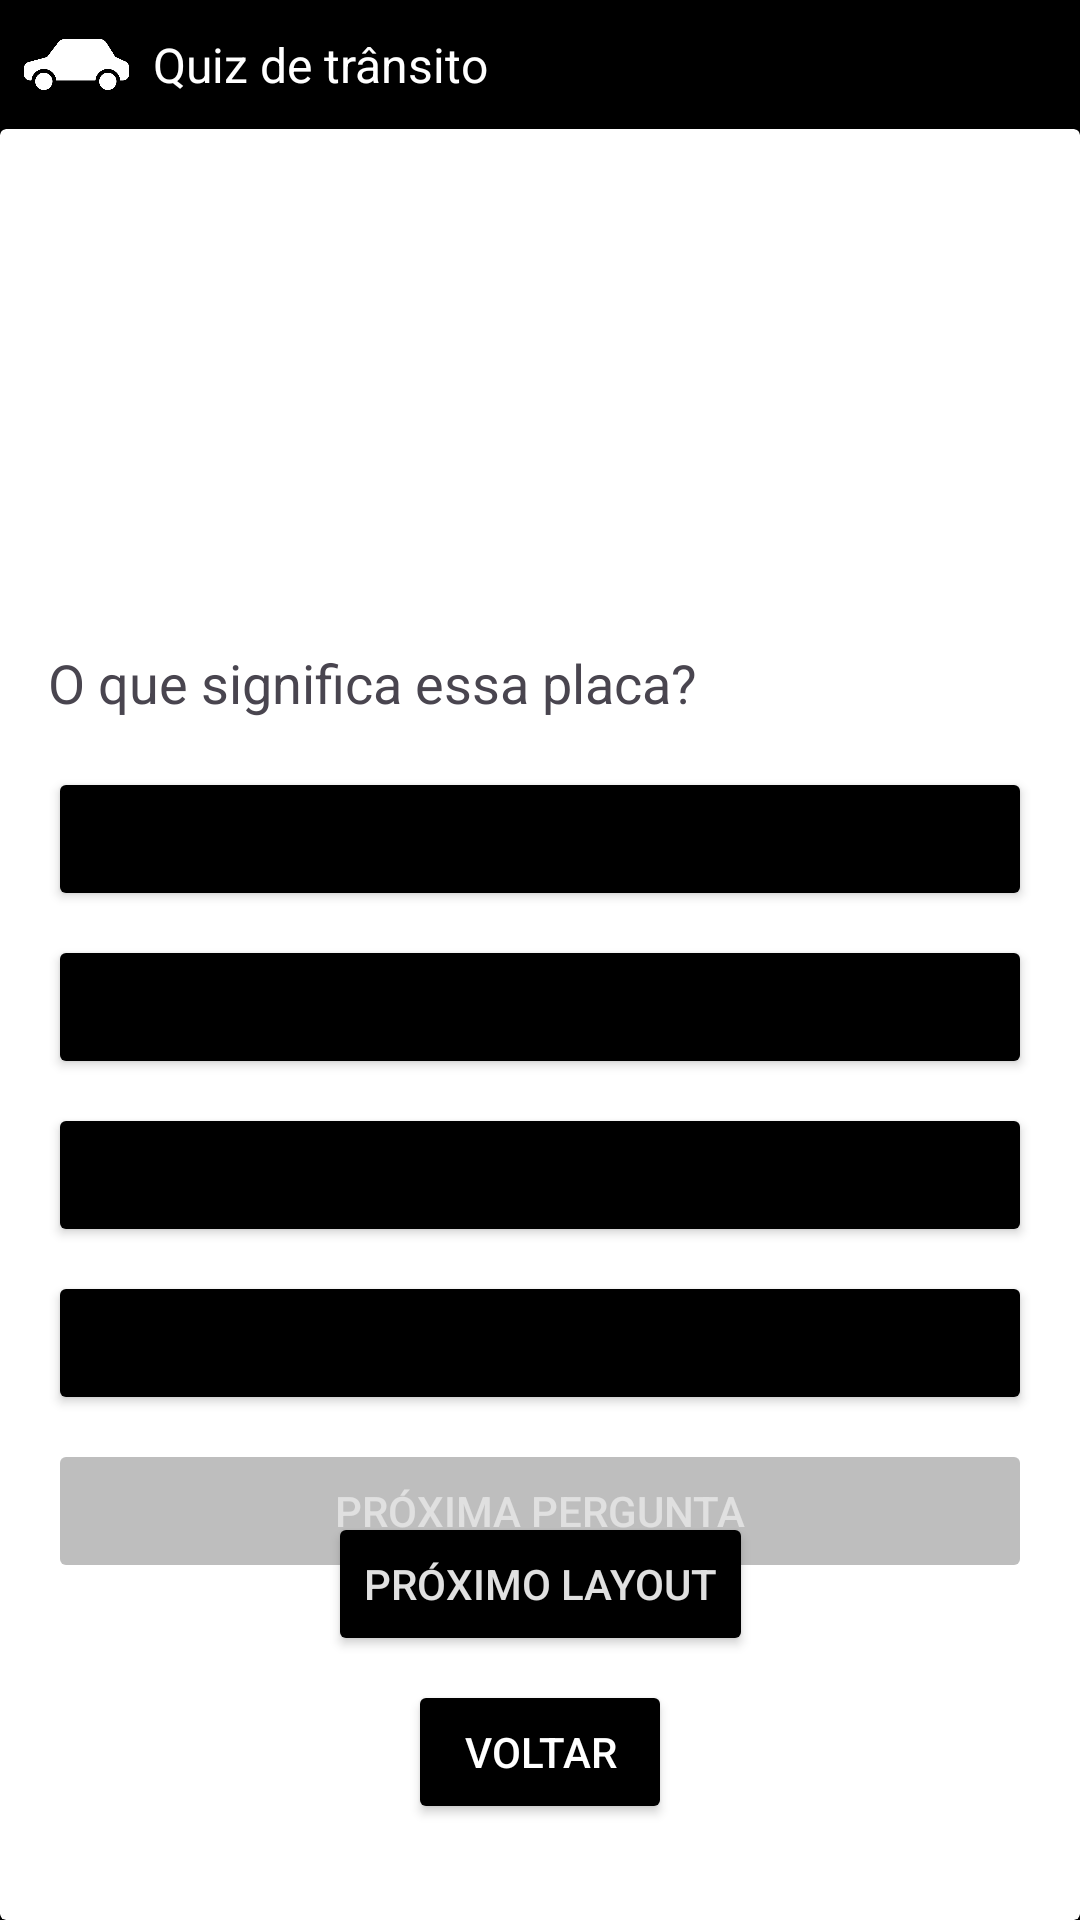

Icons on this 1080×1920 Android screen, each with its box as (x1, y1, x2, y2):
Carrinho branco minimalista virado para esquerda: (24, 39, 129, 90)
